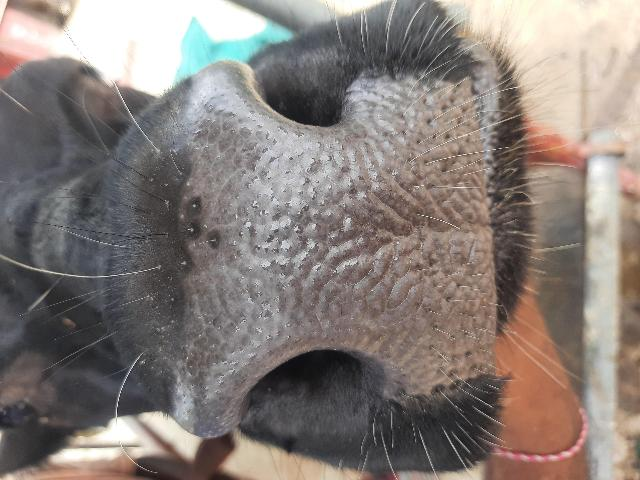Muzzle: (205, 147, 493, 355)
